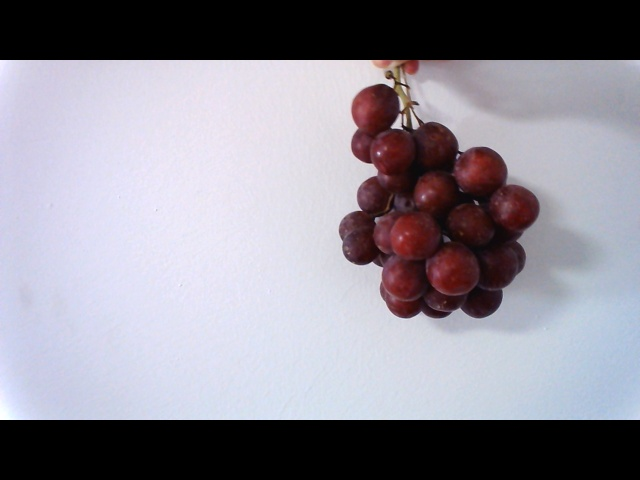grape: (333, 84, 540, 322)
